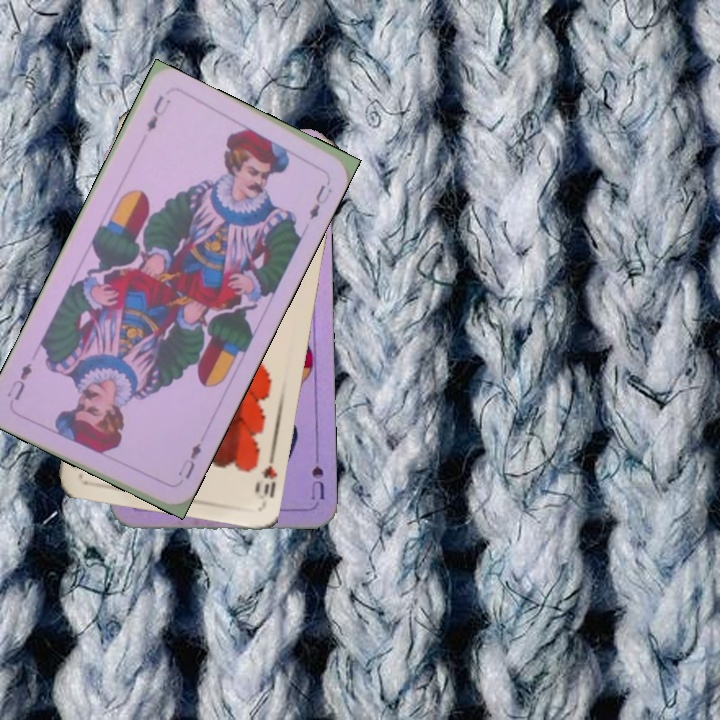EU: (142, 91, 173, 135), (174, 438, 204, 482)
H10: (250, 447, 280, 501)
SU: (307, 443, 327, 503)
